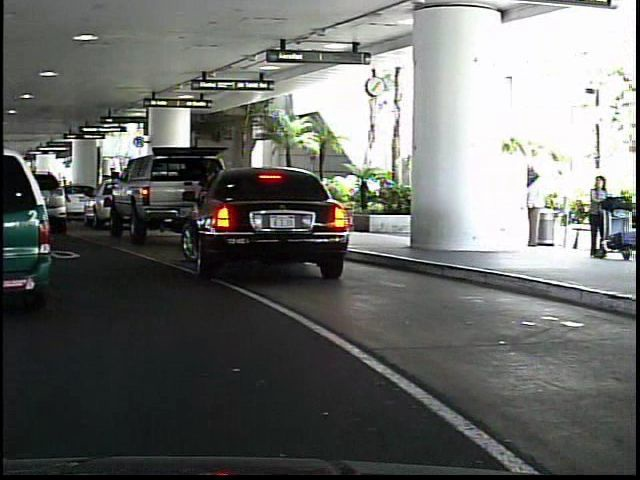person: (581, 168, 612, 263)
